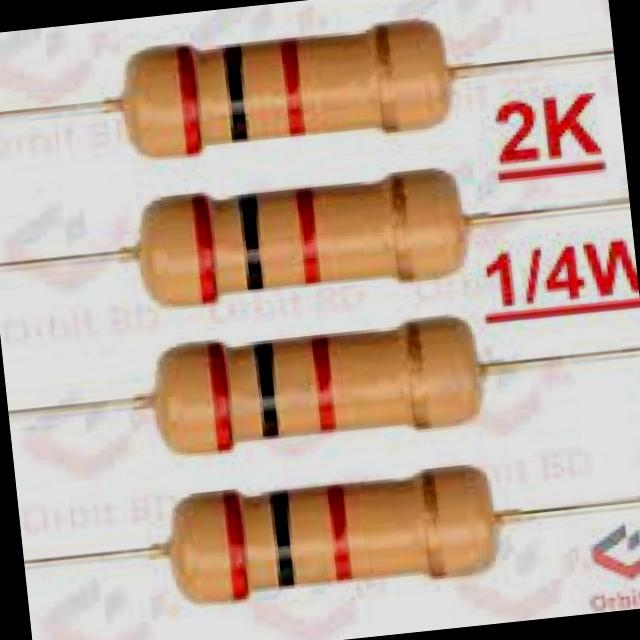Resistor: (114, 19, 451, 157), (151, 317, 489, 454), (166, 465, 498, 602), (136, 169, 466, 304)
black: (221, 43, 249, 143), (268, 488, 296, 584), (253, 339, 278, 437), (239, 195, 262, 289)
gold: (405, 317, 431, 428), (421, 468, 445, 576), (392, 172, 412, 286), (376, 22, 394, 135)
red: (192, 195, 217, 303), (177, 47, 202, 154), (224, 494, 249, 600), (208, 344, 233, 450), (281, 40, 305, 134), (328, 486, 351, 580), (313, 338, 336, 432), (297, 190, 320, 284)
